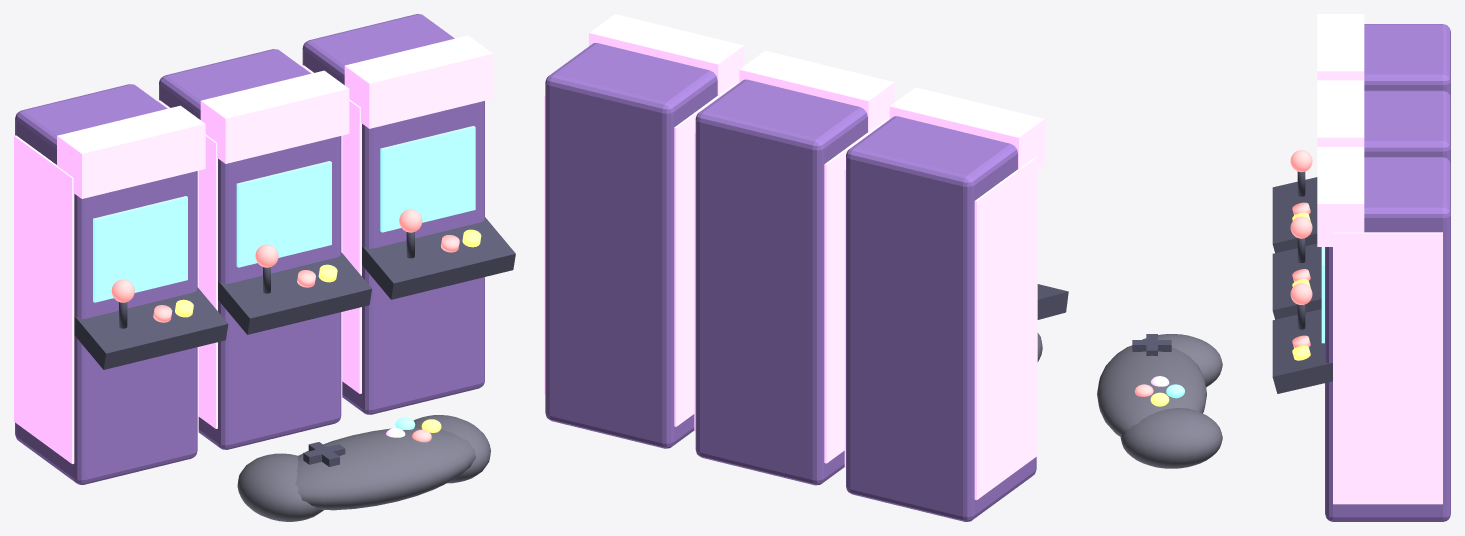
File: place_arcade.glb
The picture shows the model from 3 angles, left to right: view 1: azimuth 30°, elevation 25°; view 2: azimuth 150°, elevation 25°; view 3: azimuth 270°, elevation 25°; orthographic projection. The views are drawn at different scales.
Parts seen in each view (by area): view 1: Cab, Cab.001, Cab.002, Stripe2, PadBody, Marquee, Marquee.001, Marquee.002, Screen.002, Screen.001, Screen, Panel (+6 smaller); view 2: Cab, Cab.001, Cab.002, Stripe2, Stripe2.001, Stripe2.002, Marquee, Marquee.002, Marquee.001, Panel, Stripe, Stripe.001 (+1 smaller); view 3: Stripe.002, Cab.002, PadBody, Cab, Cab.001, PadGrip1, Marquee.002, Panel.002, Marquee.001, Marquee, Panel.001, Panel (+1 smaller).
Boxes of the visible parts, x1=… form: Cab: x1=15, y1=84, x2=197, y2=484; Cab.001: x1=159, y1=49, x2=341, y2=449; Cab.002: x1=302, y1=14, x2=484, y2=414; Stripe2: x1=14, y1=135, x2=74, y2=463; PadBody: x1=295, y1=426, x2=475, y2=510; Marquee: x1=57, y1=105, x2=205, y2=198; Marquee.001: x1=200, y1=70, x2=349, y2=163; Marquee.002: x1=344, y1=35, x2=492, y2=128; Screen.002: x1=380, y1=126, x2=475, y2=232; Screen.001: x1=236, y1=161, x2=331, y2=267; Screen: x1=93, y1=196, x2=187, y2=302; Panel: x1=74, y1=287, x2=228, y2=369; Cab: x1=846, y1=116, x2=1036, y2=521; Cab.001: x1=695, y1=79, x2=867, y2=485; Cab.002: x1=545, y1=43, x2=717, y2=448; Stripe2: x1=974, y1=156, x2=1037, y2=499; Stripe2.001: x1=824, y1=120, x2=887, y2=463; Stripe2.002: x1=674, y1=83, x2=737, y2=426; Marquee: x1=889, y1=87, x2=1044, y2=170; Marquee.002: x1=589, y1=14, x2=744, y2=95; Marquee.001: x1=739, y1=50, x2=894, y2=132; Panel: x1=1037, y1=284, x2=1068, y2=319; Stripe: x1=844, y1=168, x2=845, y2=468; Stripe.001: x1=694, y1=132, x2=695, y2=431; Stripe.002: x1=1333, y1=232, x2=1442, y2=504; Cab.002: x1=1325, y1=157, x2=1450, y2=521; PadBody: x1=1097, y1=345, x2=1206, y2=436; Cab: x1=1364, y1=24, x2=1450, y2=97; Cab.001: x1=1364, y1=90, x2=1450, y2=163; PadGrip1: x1=1120, y1=408, x2=1222, y2=468; Marquee.002: x1=1317, y1=147, x2=1364, y2=246; Panel.002: x1=1272, y1=309, x2=1332, y2=393; Marquee.001: x1=1317, y1=80, x2=1364, y2=146; Marquee: x1=1317, y1=14, x2=1364, y2=80; Panel.001: x1=1272, y1=243, x2=1321, y2=319; Panel: x1=1272, y1=177, x2=1317, y2=253.
Bounding box in the file's own units: 5.76 × 4.5 × 4.5.
